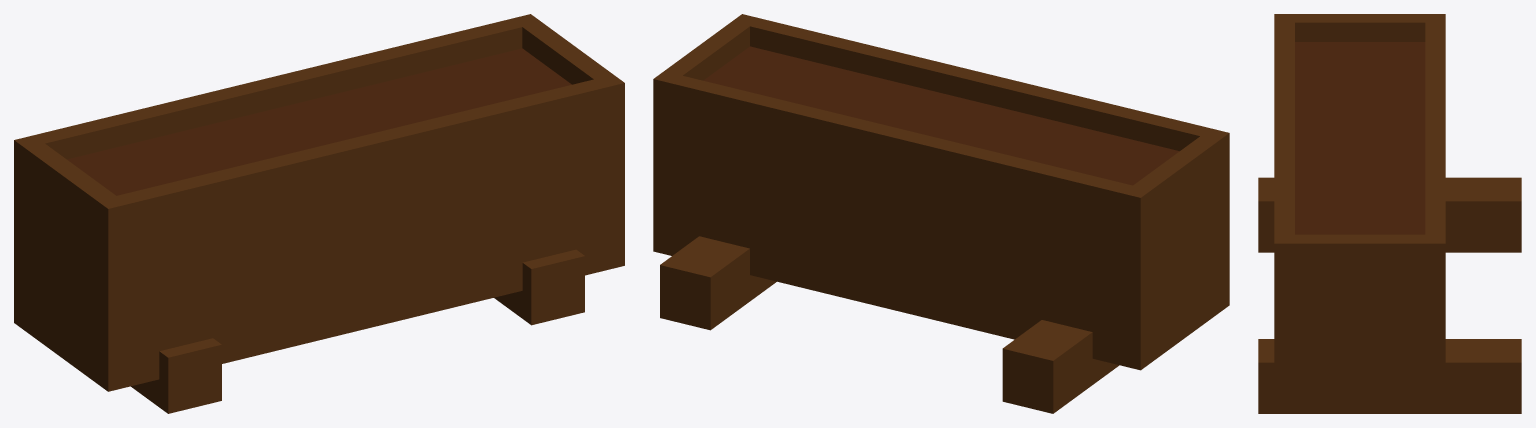
File: MBS_City_WindowFlowerPot.fbx
3 renders of one model, left to right at view 1: azimuth 30°, elevation 25°; view 2: azimuth 150°, elevation 25°; view 3: azimuth 270°, elevation 25°, orthographic. The views are drawn at different scales.
Parts seen in each view (by area): view 1: Cube.844; view 2: Cube.844; view 3: Cube.844.
Boxes of the visible parts, x1,y1,x2,y2 form: Cube.844: (14,14,624,413); Cube.844: (653,14,1229,413); Cube.844: (1258,14,1521,413).
Size of the model in its own units: 200 by 78.03 by 97.05.
